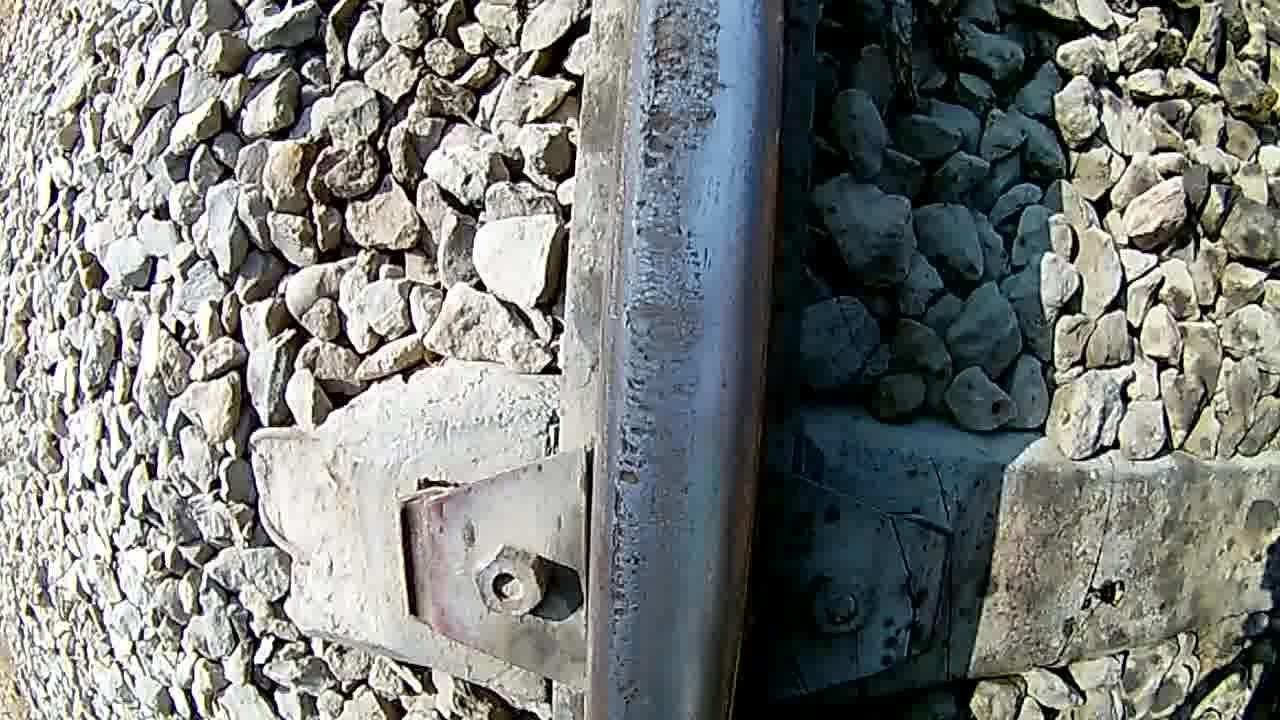crack: (602, 0, 758, 720)
